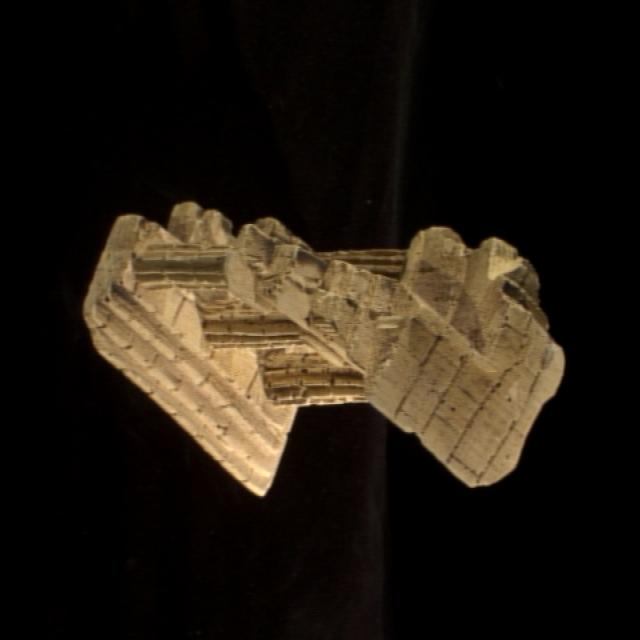Instance-Segmentation: (83, 203, 564, 495)
